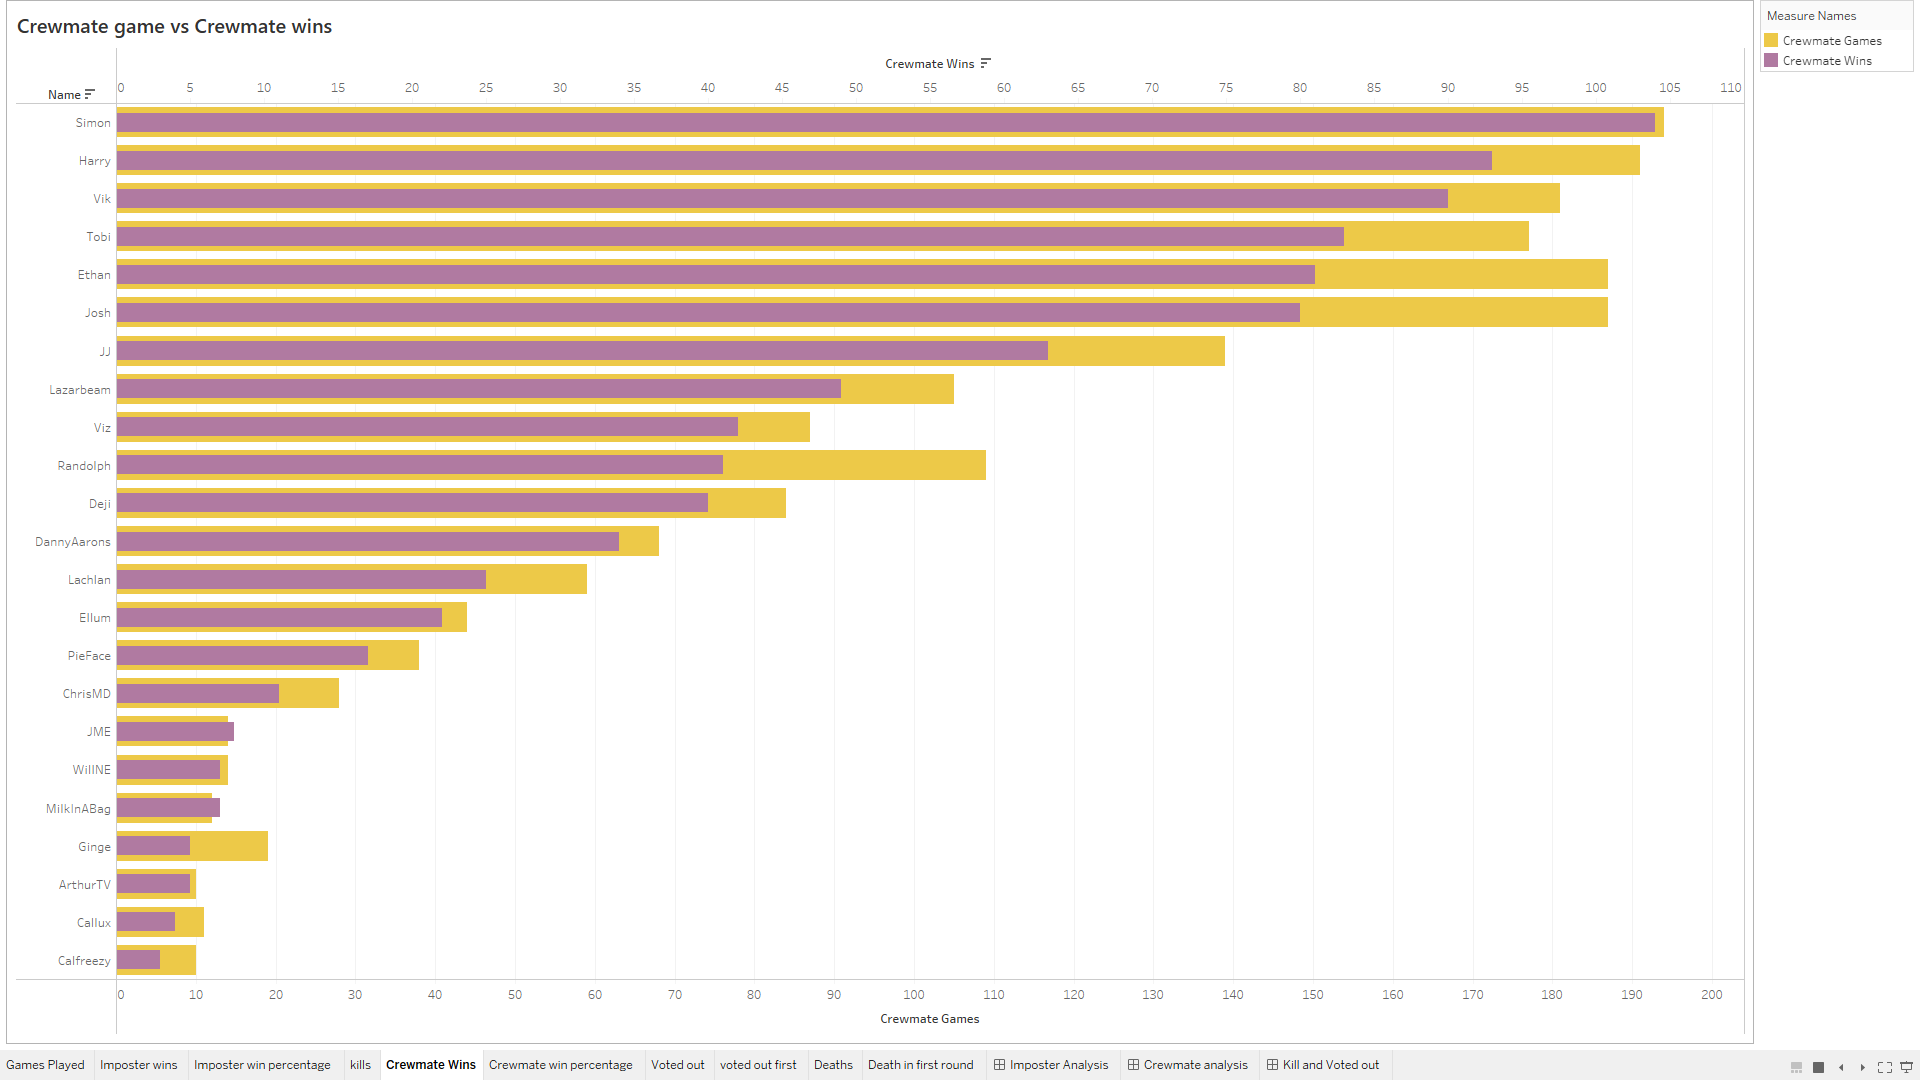

What the dashboard file says about the page in this screenshot:
{"tool":"tableau","page":{"name":"Crewmate analysis","canvas":[1000,1000],"units":"permille","ordinal":0},"visuals":[{"type":"worksheet","title":"Games Played","mark":"Bar","rows":["Name"],"cols":["Games Played"],"box":[4.7,8.9,426.6,982.1]},{"type":"legend","title":"Crewmate Wins","param":"[federated.0xwlhxd0jxvfds1dibkh81if3xmn].[:Measure Names]","box":[431.2,8.9,564.1,59.1]},{"type":"worksheet","title":"Crewmate Wins","mark":"Bar","rows":["Name"],"cols":["Crewmate Games","Crewmate Wins"],"box":[431.2,68.1,564.1,473.7]},{"type":"worksheet","title":"Crewmate win percentage","mark":"Bar","rows":["Name"],"cols":["Crewmate Win %"],"box":[431.2,541.8,564.1,449.2]}]}

Visuals, with their boxes on the dashboard's canvas, which has no fixed pixel size, in thousandths of its width and height (x1, y1, x2, y2). These are canvas units, not pixel positions in the 1920x1080 screenshot, which may show the page scaled, cropped or inside an application window:
"Games Played" worksheet (Bar marks): crop(5, 9, 431, 991)
"Crewmate Wins" legend: crop(431, 9, 995, 68)
"Crewmate Wins" worksheet (Bar marks): crop(431, 68, 995, 542)
"Crewmate win percentage" worksheet (Bar marks): crop(431, 542, 995, 991)
